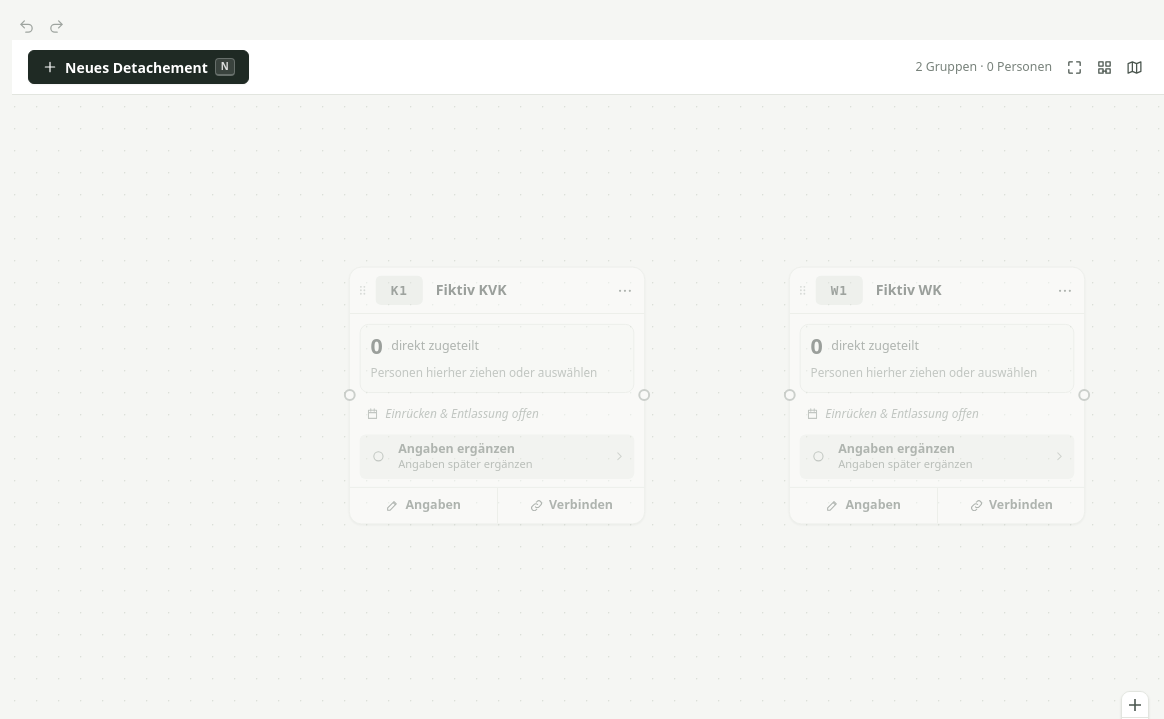
Test: planning board stability with wholly fictional projects › keeps drag frames local, skips card content redraws, and saves one undoable gesture
Step 1. Press the mouse on the 1st header with class "card-grip" → [497, 291], box 350,268 -> 644,314
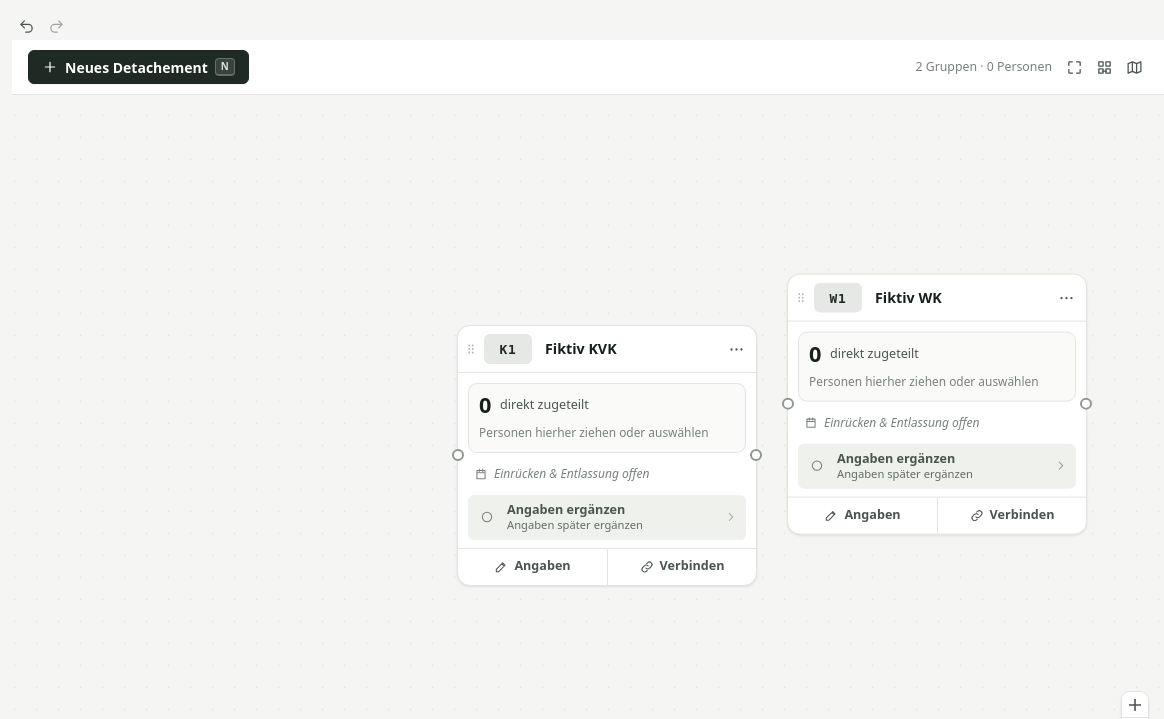
Step 2. Click the button named "Rückgängig" → [26, 26], box 12,12 -> 40,40
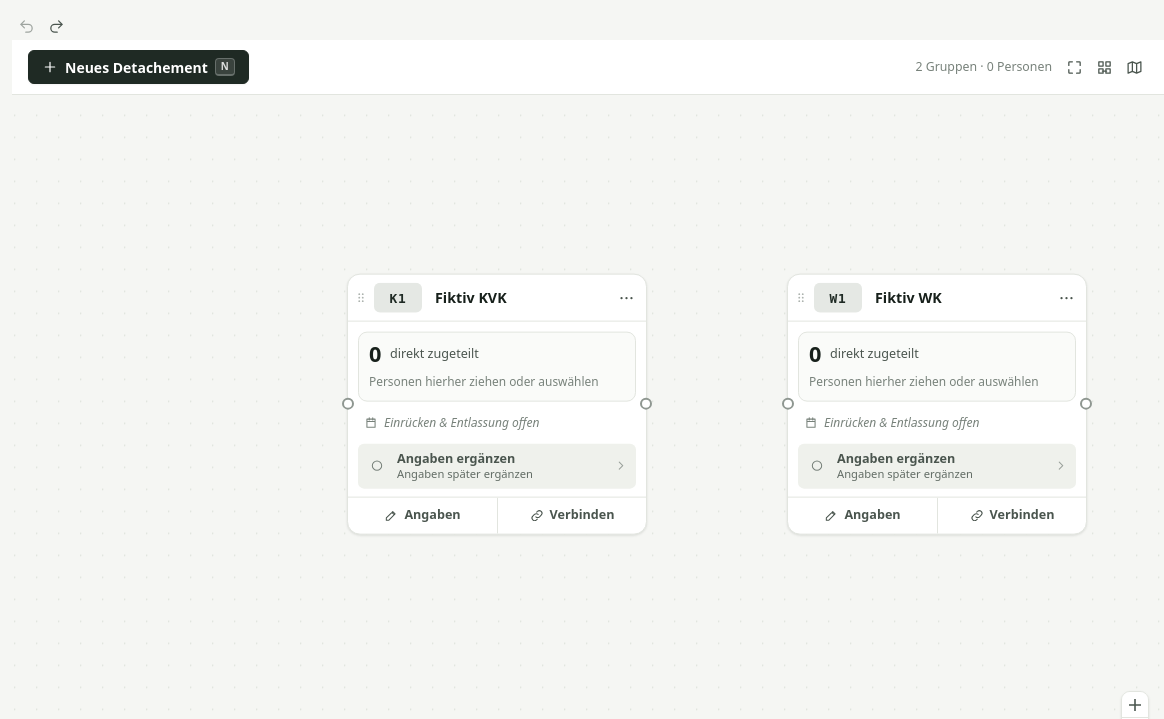
Expected: the button named "Rückgängig" is disabled, 12,12 -> 40,40
